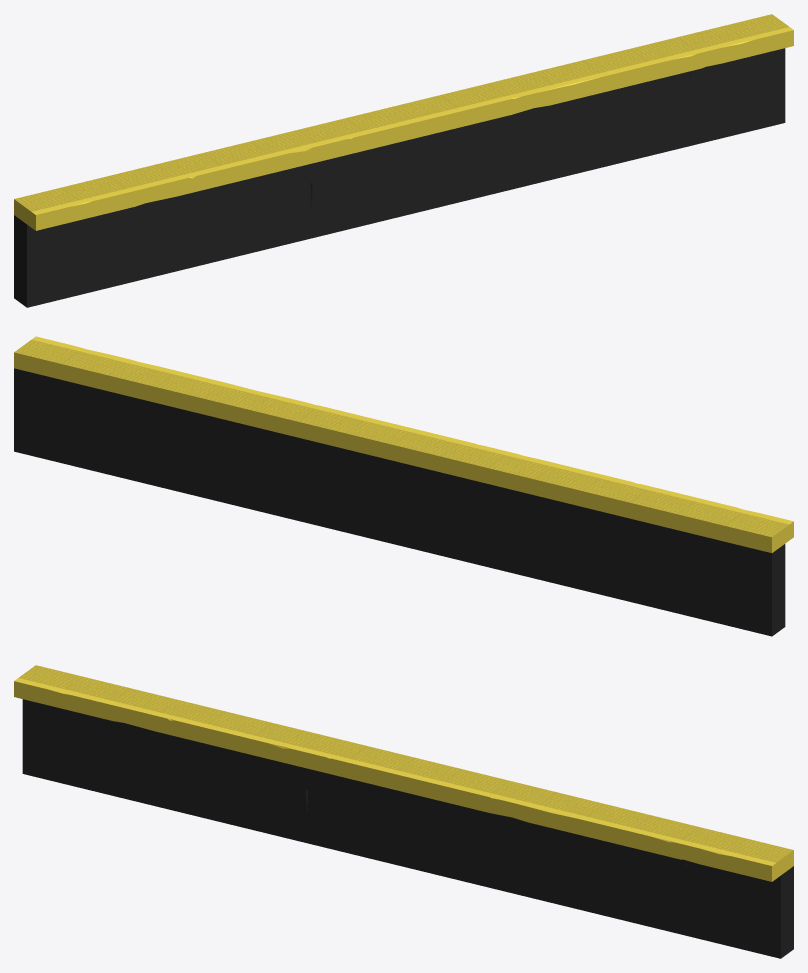
Rendered from SW_ENV_PlatformEdge_A_10m.fbx.
3 renders of one model, top to bottom at view 1: azimuth 30°, elevation 25°; view 2: azimuth 150°, elevation 25°; view 3: azimuth 330°, elevation 25°, orthographic.
Visible parts, largest first — view 1: SW_ENV_PlatformEdge_A_10m; view 2: SW_ENV_PlatformEdge_A_10m; view 3: SW_ENV_PlatformEdge_A_10m.
Part boxes in pixels (x1,y1,x2,y2): SW_ENV_PlatformEdge_A_10m: (14,14,793,307); SW_ENV_PlatformEdge_A_10m: (14,336,793,636); SW_ENV_PlatformEdge_A_10m: (14,665,793,958).
Bounding box in the file's own units: 1000 × 125 × 50.
